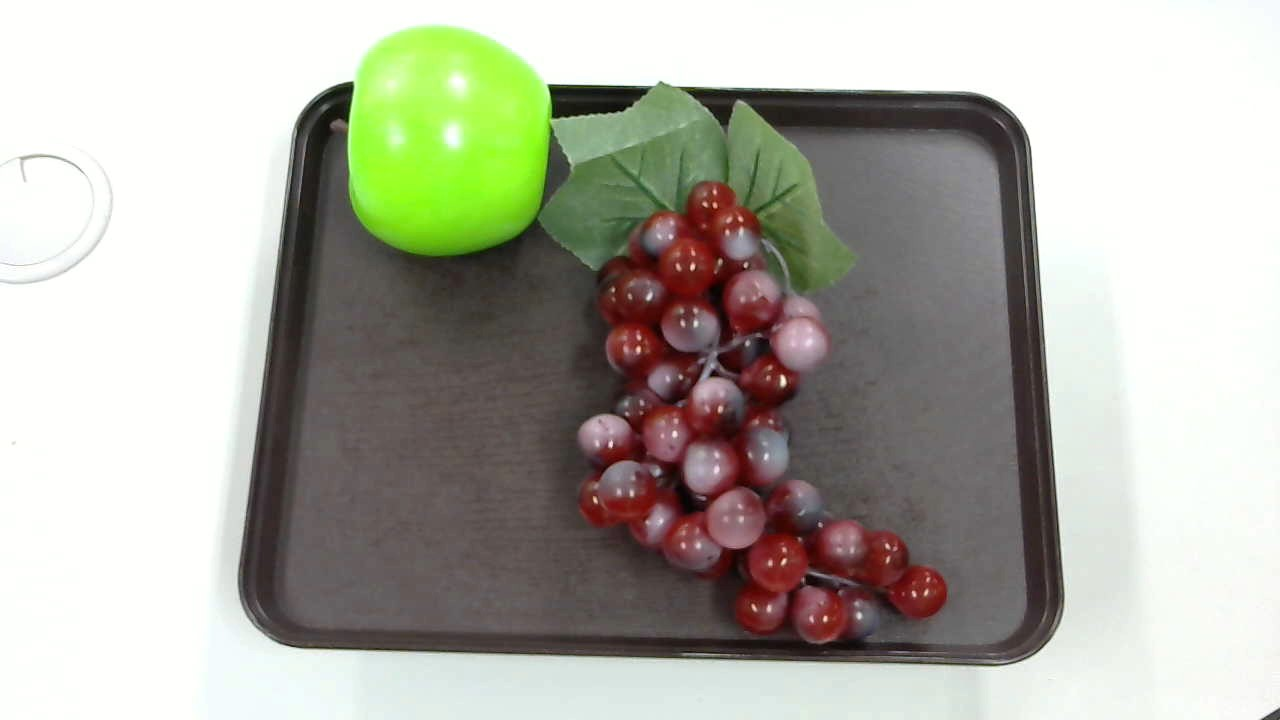grape: (540, 80, 949, 649)
green apple: (346, 22, 552, 259)
